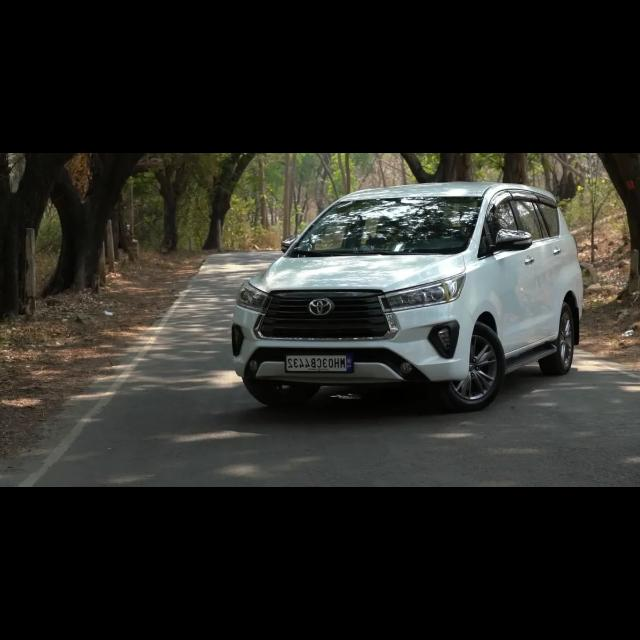vehicles: (230, 186, 586, 410)
